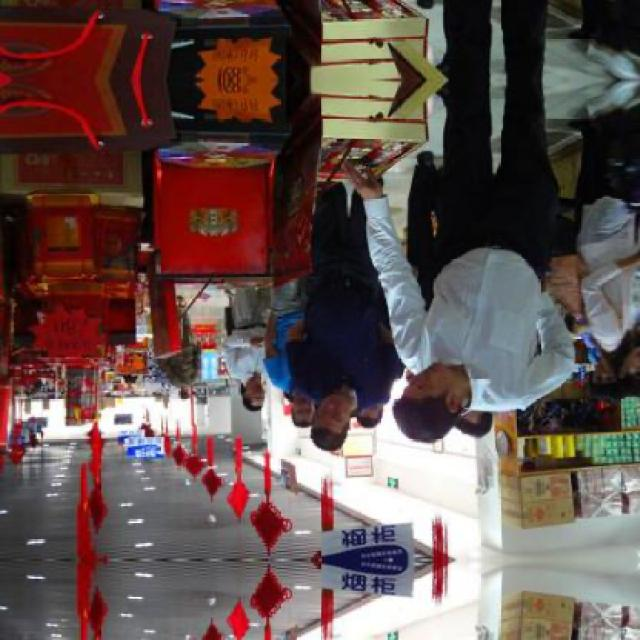sin casco: (380, 342, 493, 438), (291, 382, 357, 458), (226, 367, 275, 428)
